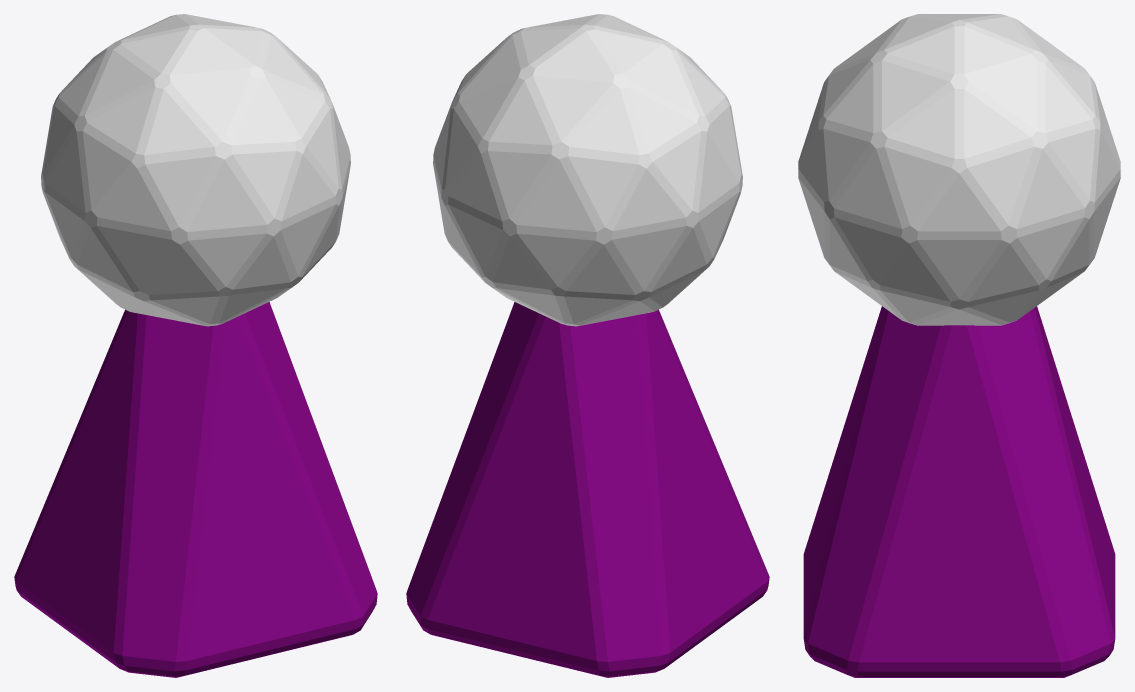
File: pawn.glb
The picture shows the model from 3 angles, left to right: view 1: azimuth 30°, elevation 25°; view 2: azimuth 150°, elevation 25°; view 3: azimuth 270°, elevation 25°; orthographic projection. The views are drawn at different scales.
Parts seen in each view (by area): view 1: Cube, Icosphere; view 2: Cube, Icosphere; view 3: Cube, Icosphere.
Boxes of the visible parts, x1=… form: Cube: x1=14, y1=302, x2=377, y2=677; Icosphere: x1=41, y1=14, x2=350, y2=326; Cube: x1=406, y1=302, x2=769, y2=677; Icosphere: x1=433, y1=14, x2=742, y2=326; Cube: x1=803, y1=306, x2=1115, y2=677; Icosphere: x1=798, y1=14, x2=1120, y2=325.
Size of the model in its own units: 0.6138 by 1.29 by 0.6343.
